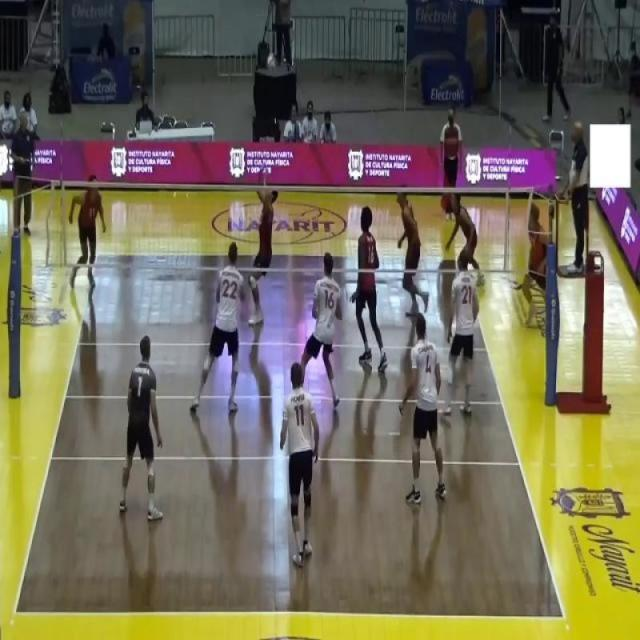volleyball: (266, 52, 276, 74)
